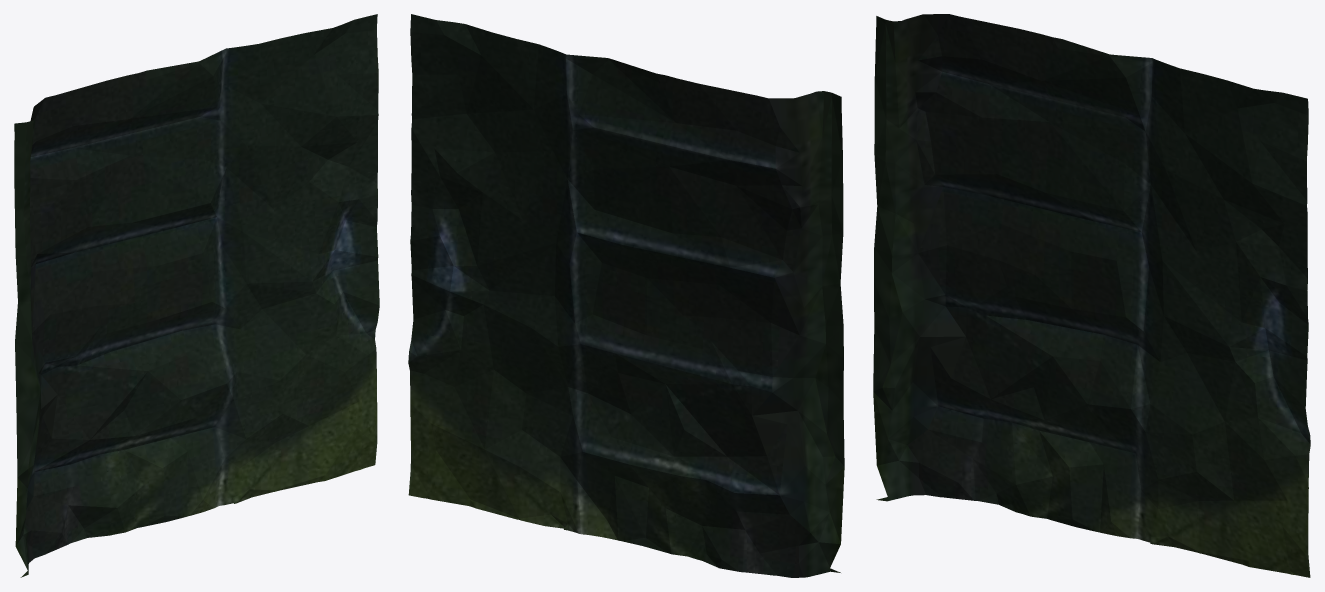
The model's file is tile_4_0_16_tex.obj.
3 renders of one model, left to right at view 1: azimuth 30°, elevation 25°; view 2: azimuth 150°, elevation 25°; view 3: azimuth 330°, elevation 25°, orthographic. The views are drawn at different scales.
Visible parts, largest first — view 1: obj_0; view 2: obj_0; view 3: obj_0.
Boxes of the visible parts, x1,y1,x2,y2 form: obj_0: [14, 14, 379, 577]; obj_0: [408, 14, 844, 577]; obj_0: [873, 14, 1310, 577].
Size of the model in its own units: 10.04 by 11.26 by 1.32.
1 material, 1 textured.
